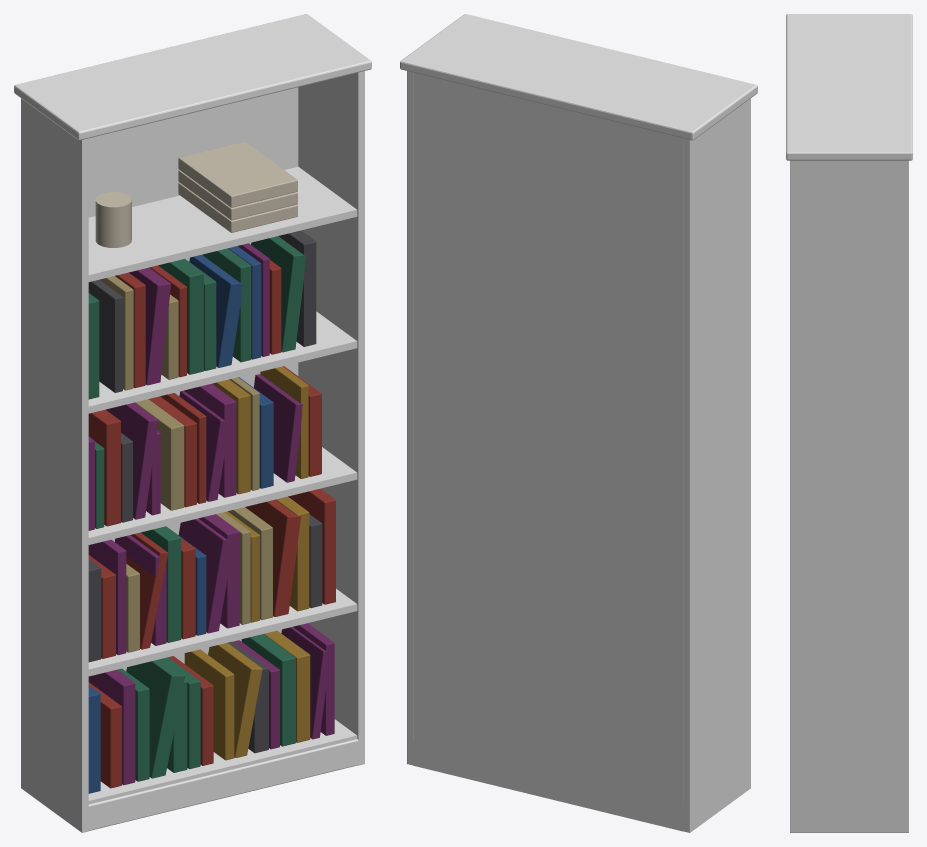
File: toy_bookcase.fbx
3 views of the same model, side by side, from view 1: azimuth 30°, elevation 25°; view 2: azimuth 150°, elevation 25°; view 3: azimuth 270°, elevation 25° (orthographic). The views are drawn at different scales.
Visible parts, largest first — view 1: walnut_1, book4_1, book0_1, book3_1, book2_1, book6_1, cream_1, book5_1, book1_1; view 2: walnut_1; view 3: walnut_1.
Part boxes in pixels (x1,y1,x2,y2): walnut_1: (14, 14, 371, 832); book4_1: (88, 243, 334, 785); book0_1: (88, 260, 335, 788); book3_1: (88, 236, 306, 781); book2_1: (184, 366, 310, 760); book6_1: (100, 276, 272, 652); cream_1: (95, 141, 297, 247); book5_1: (88, 230, 322, 753); book1_1: (88, 246, 273, 793); walnut_1: (400, 14, 757, 832); walnut_1: (786, 14, 912, 832).
Bounding box in the file's own units: 1.99 × 4.56 × 0.768.
